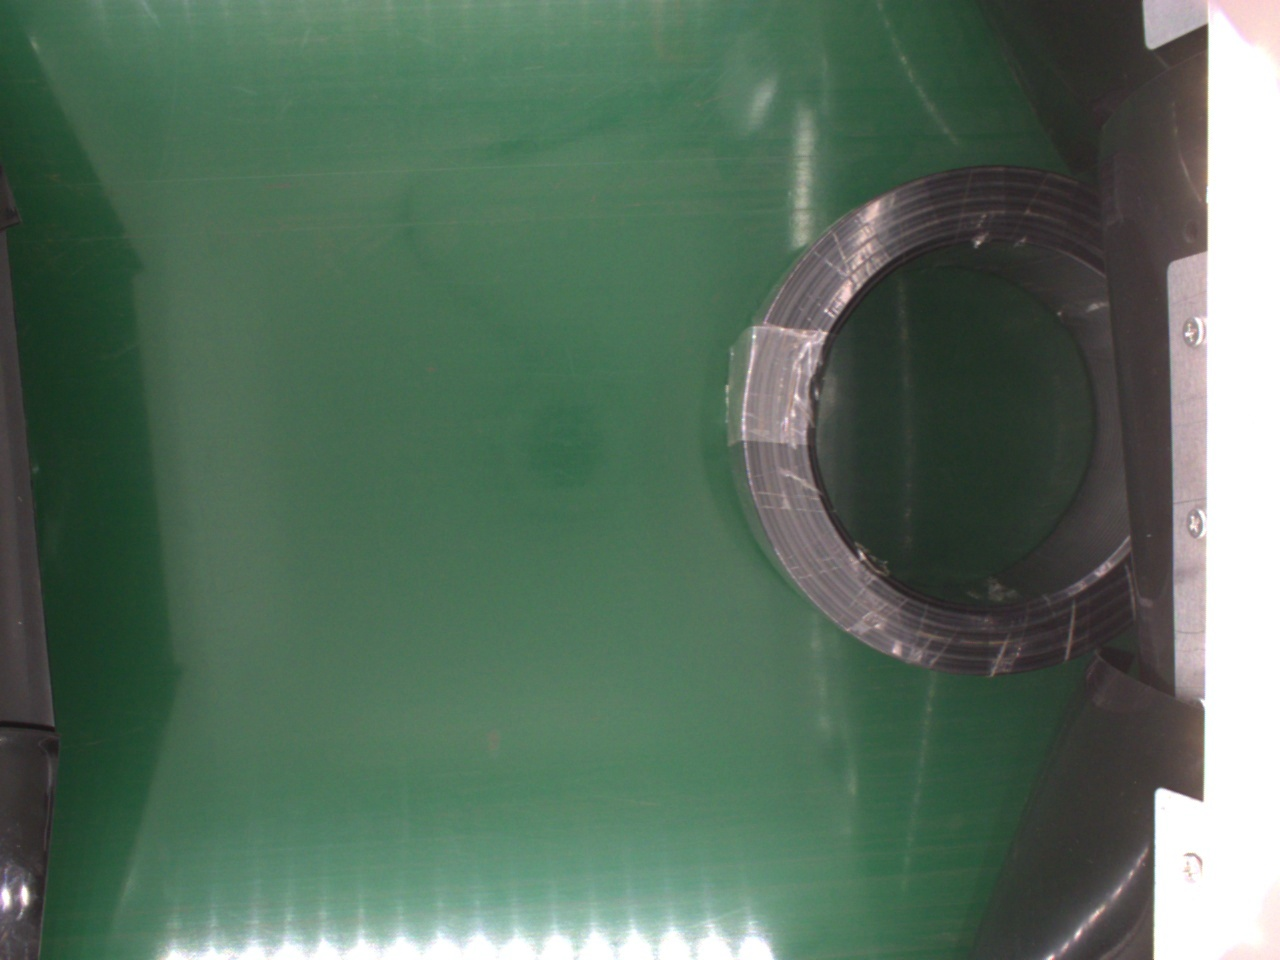black: (733, 162, 1152, 676)
